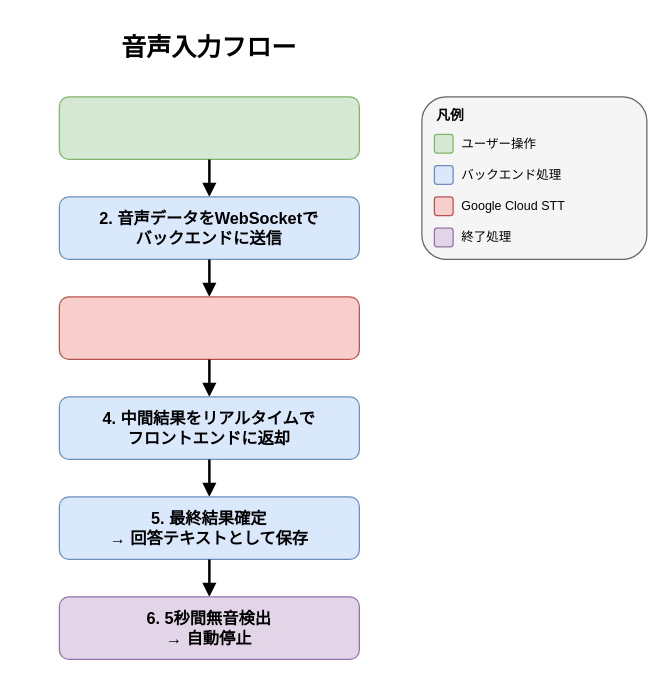
This 669x681 diagram has some shape labels left out. The box of each missing label's shape, as (x1, y1, x2, y2) in pixels:
1. マイクボタンタップ → MediaRecorder開始: (58, 96, 359, 159)
3. バックエンド → Google Cloud STT （Streaming API）: (58, 296, 359, 359)
